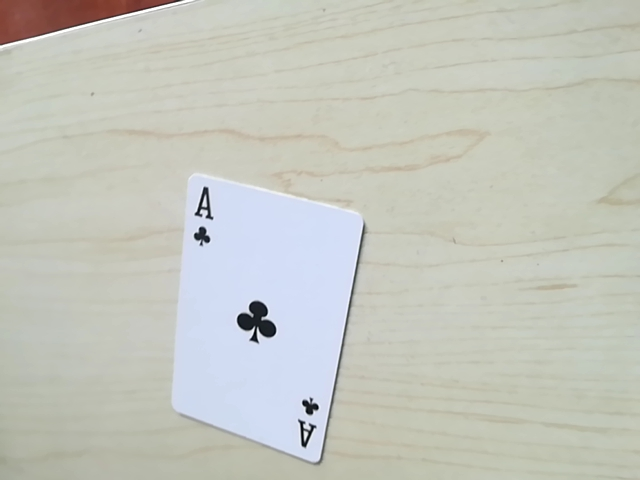mh a: (288, 390, 327, 462), (184, 179, 218, 258)
